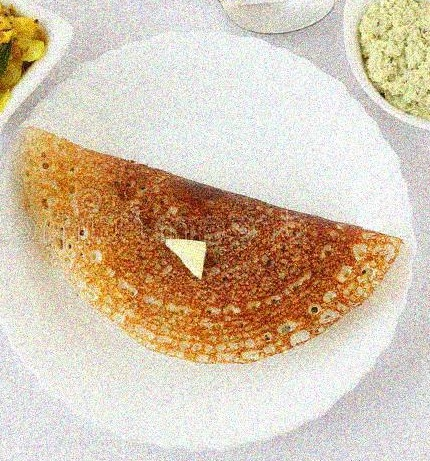dosa: (19, 125, 407, 365)
